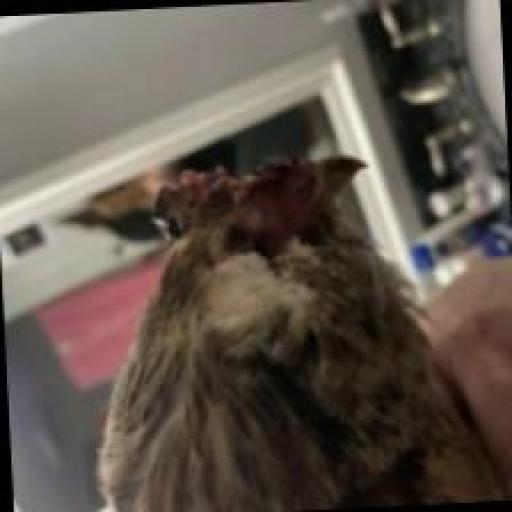disease: (130, 158, 393, 262)
